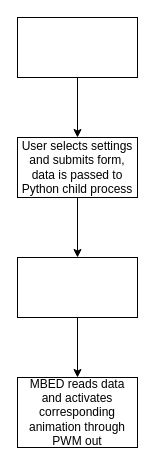
The diagram is 155 pixels wide and 466 high, and some of its shapes have lost their labels. The shapes that lost their labels are listed below. From the top down, each one's centre as x and y in pixels, then its label:
At point 77,47: "Node.js pushes out HTML file to port 8000".
At point 77,287: "Python processes info from weather API if necessary, and sends data to MBED".
